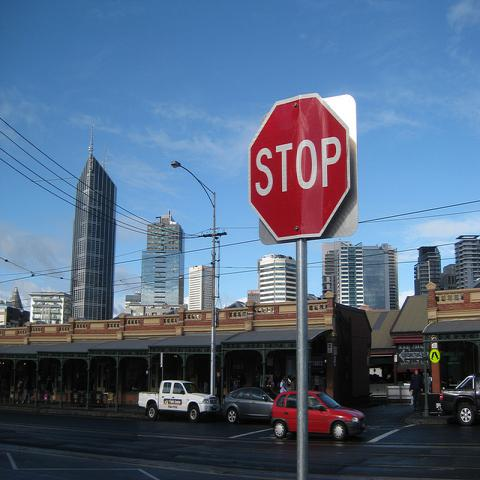car: (270, 390, 367, 440), (439, 373, 479, 427), (223, 386, 280, 423)
truck: (138, 379, 220, 424), (436, 373, 480, 428)
